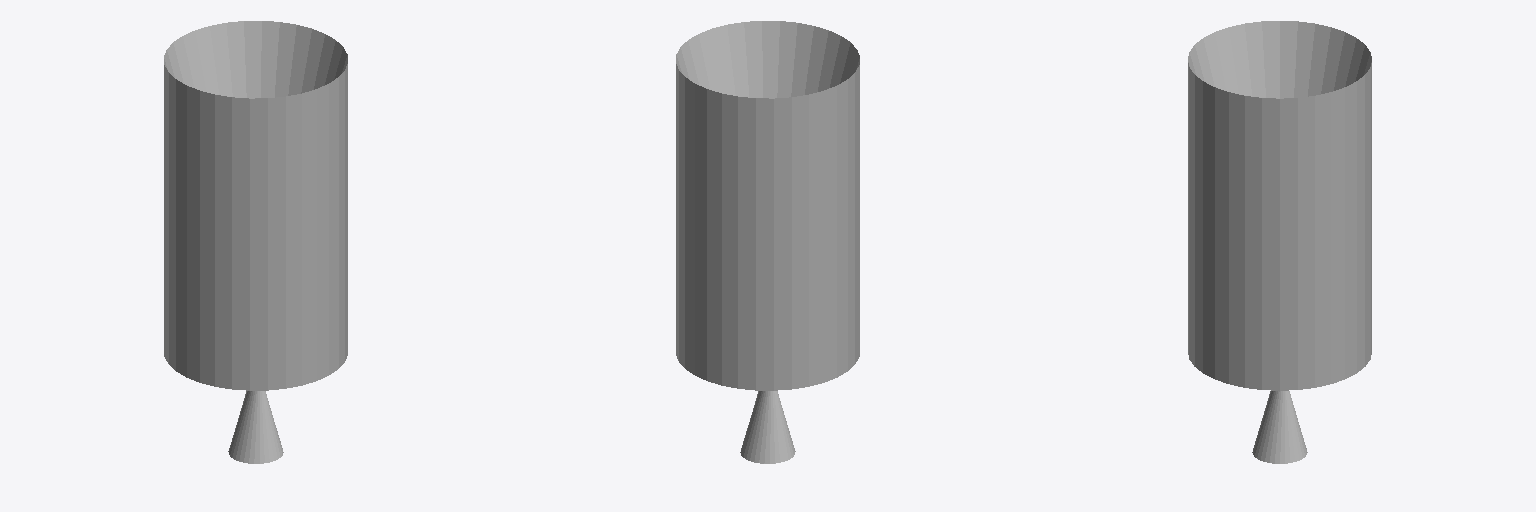
The model's file is round.obj.
3 renders of one model, left to right at view 1: azimuth 30°, elevation 25°; view 2: azimuth 150°, elevation 25°; view 3: azimuth 270°, elevation 25°, orthographic.
Parts seen in each view (by area): view 1: Cylinder; view 2: Cylinder; view 3: Cylinder.
Boxes of the visible parts, x1,y1,x2,y2 form: Cylinder: [164, 21, 347, 463]; Cylinder: [676, 21, 859, 463]; Cylinder: [1188, 21, 1371, 463].
Size of the model in its own units: 3.1 by 7.27 by 3.1.